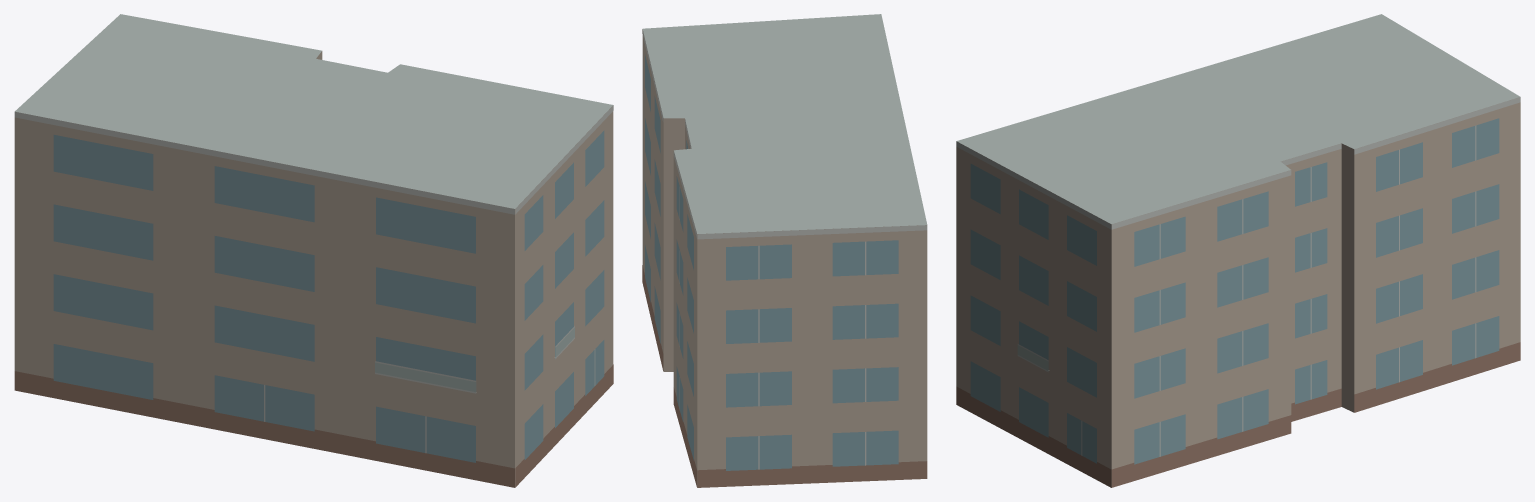
File: survey-upis-32960581.glb
The picture shows the model from 3 angles, left to right: view 1: azimuth 30°, elevation 25°; view 2: azimuth 150°, elevation 25°; view 3: azimuth 270°, elevation 25°; orthographic projection. The views are drawn at different scales.
Visible parts, largest first — view 1: survey-upis-32960581.tmp; view 2: survey-upis-32960581.tmp; view 3: survey-upis-32960581.tmp.
Part boxes in pixels (box(x1,y1,x2,y2)): survey-upis-32960581.tmp: box(14, 14, 613, 487); survey-upis-32960581.tmp: box(642, 14, 927, 487); survey-upis-32960581.tmp: box(956, 14, 1520, 487).
Size of the model in its own units: 20.03 by 11.7 by 22.71.
